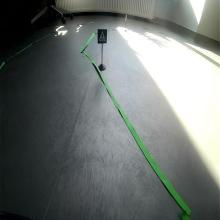crosswalk: (98, 28, 107, 44)
